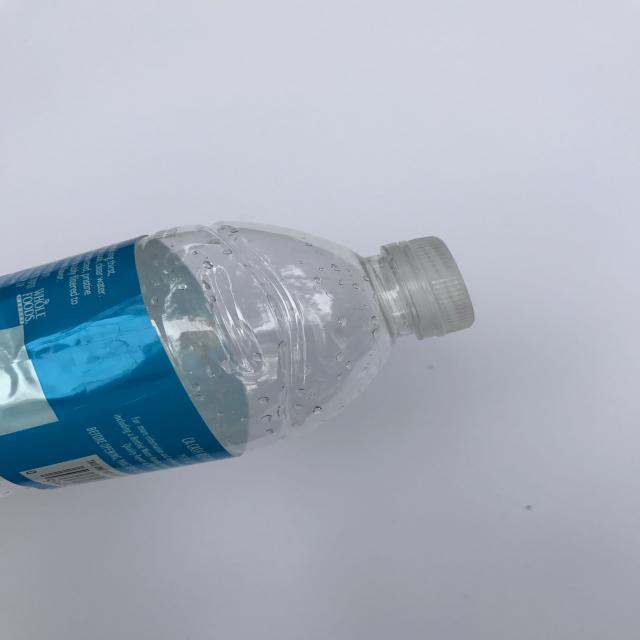plastic: (2, 219, 478, 502)
